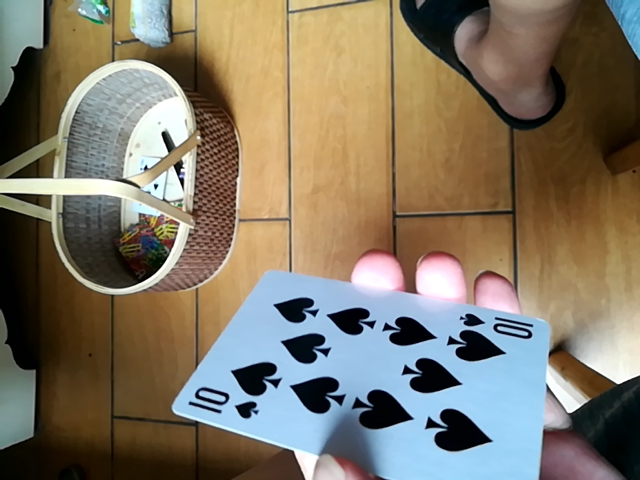ht 10: (178, 263, 557, 480)
